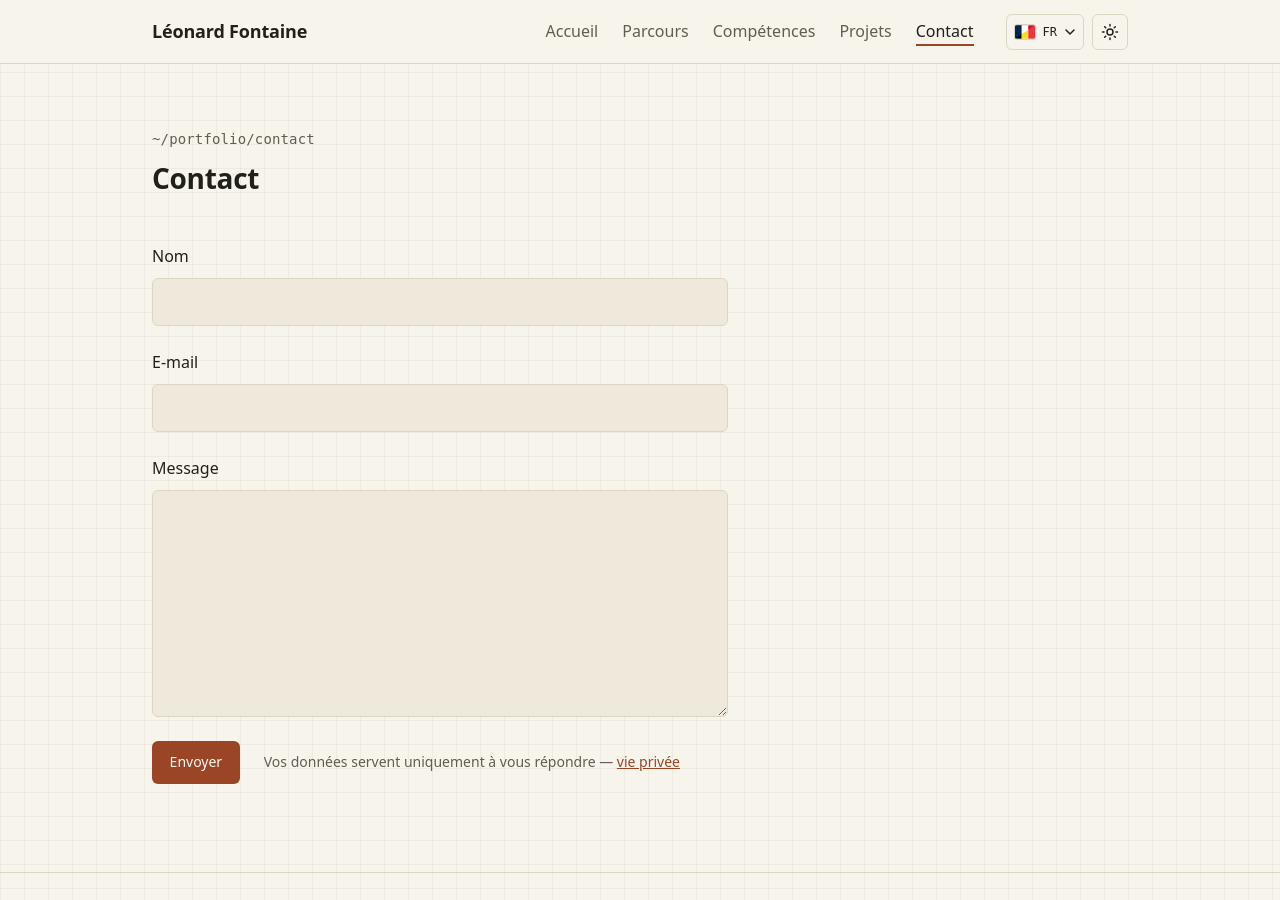
contact form › keeps the text when the server answers 429
Type "Ada" into the field labelled "Nom" at (440, 302), box [152,278,728,326]
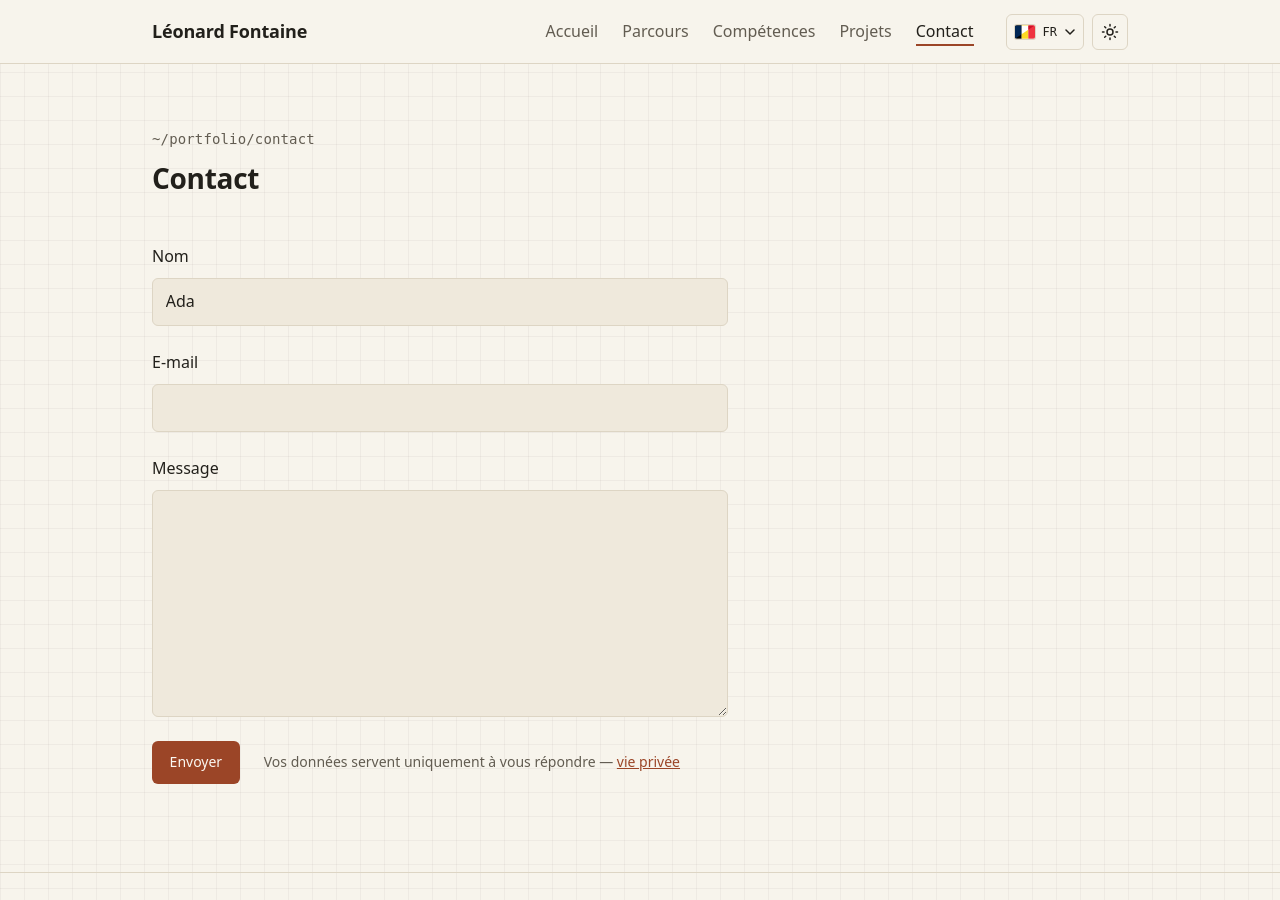
Type "ada@example.com" into the field labelled "E-mail" at (440, 408), box [152,384,728,432]
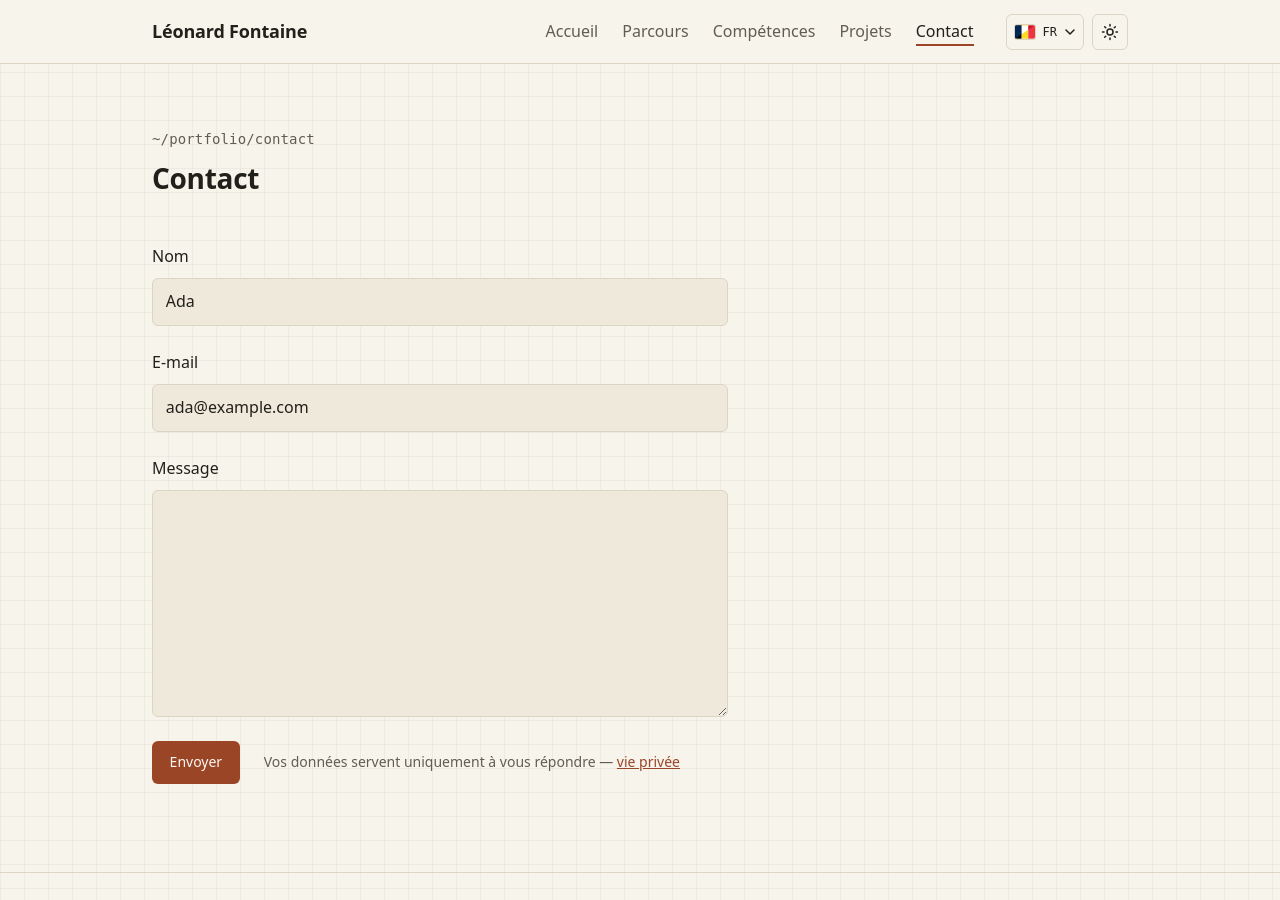
Type "Bonjour, une question." into the text box labelled "Message" at (440, 603), box [152,490,728,717]
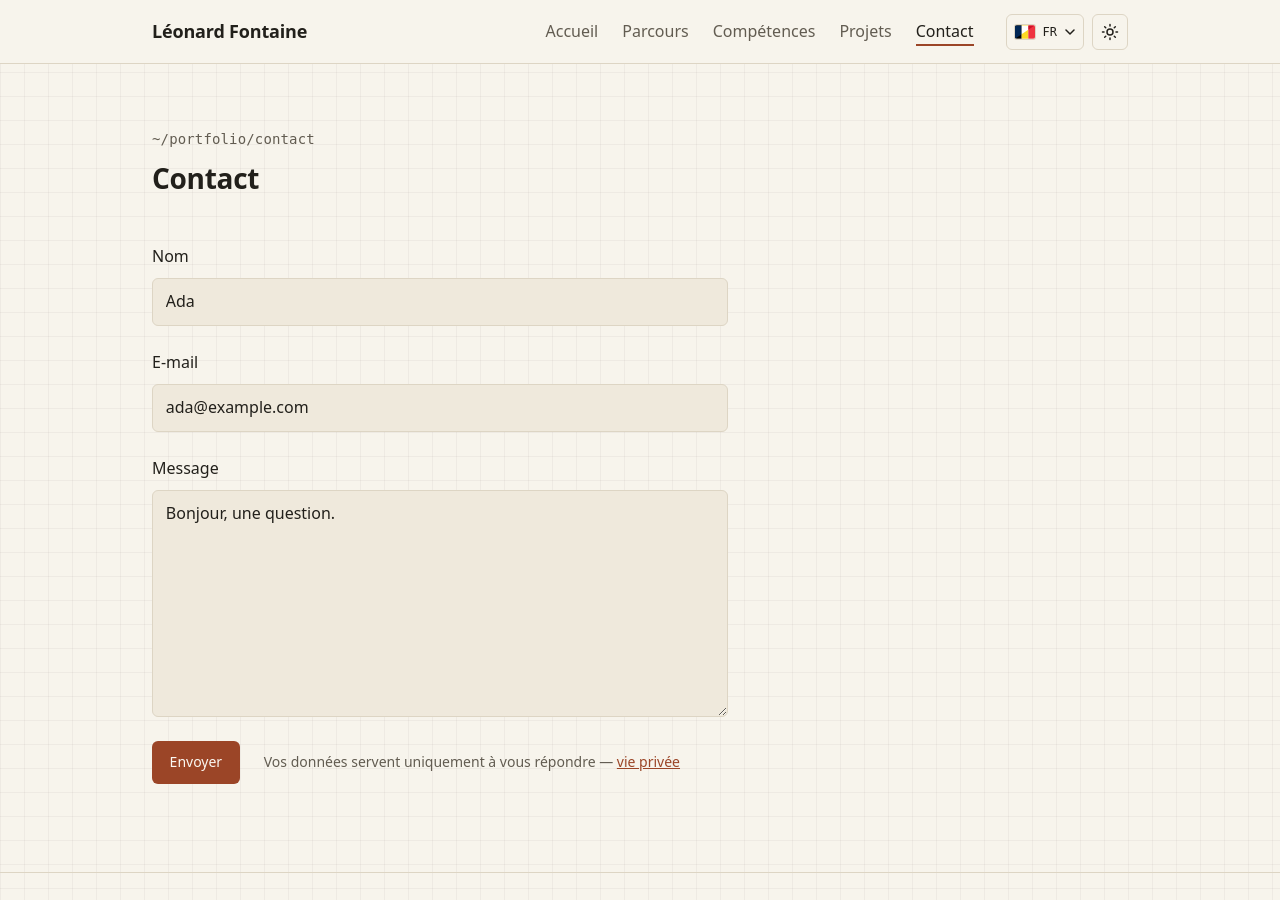
Click the button "Envoyer" at (196, 763), box [152,741,240,784]
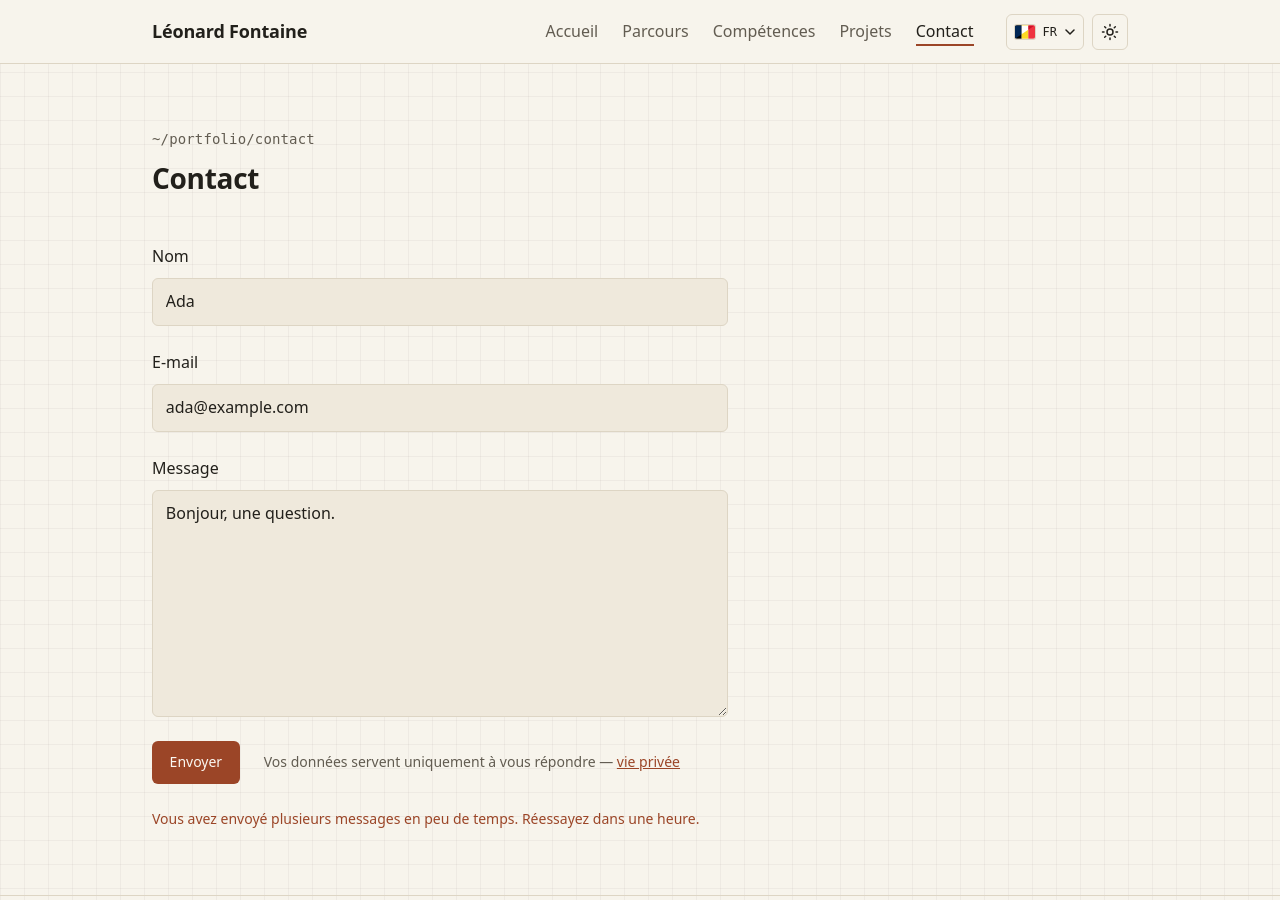
Expected: the message shows "Réessayez dans une heure", [152,809,700,828]
